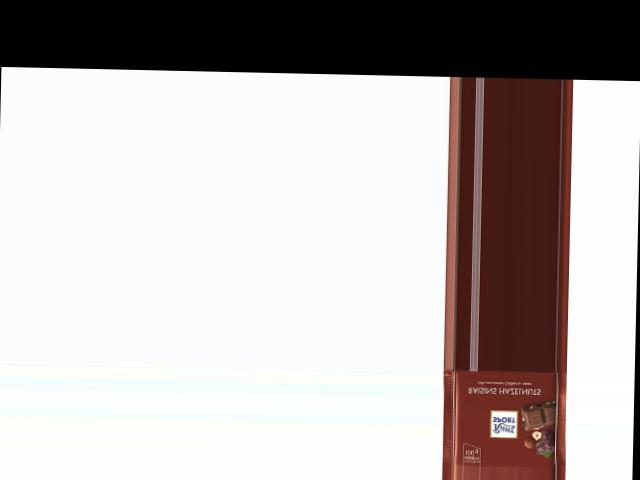chocolate: (441, 368, 569, 468)
